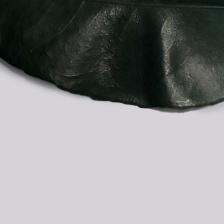healthy: (0, 0, 223, 122)
